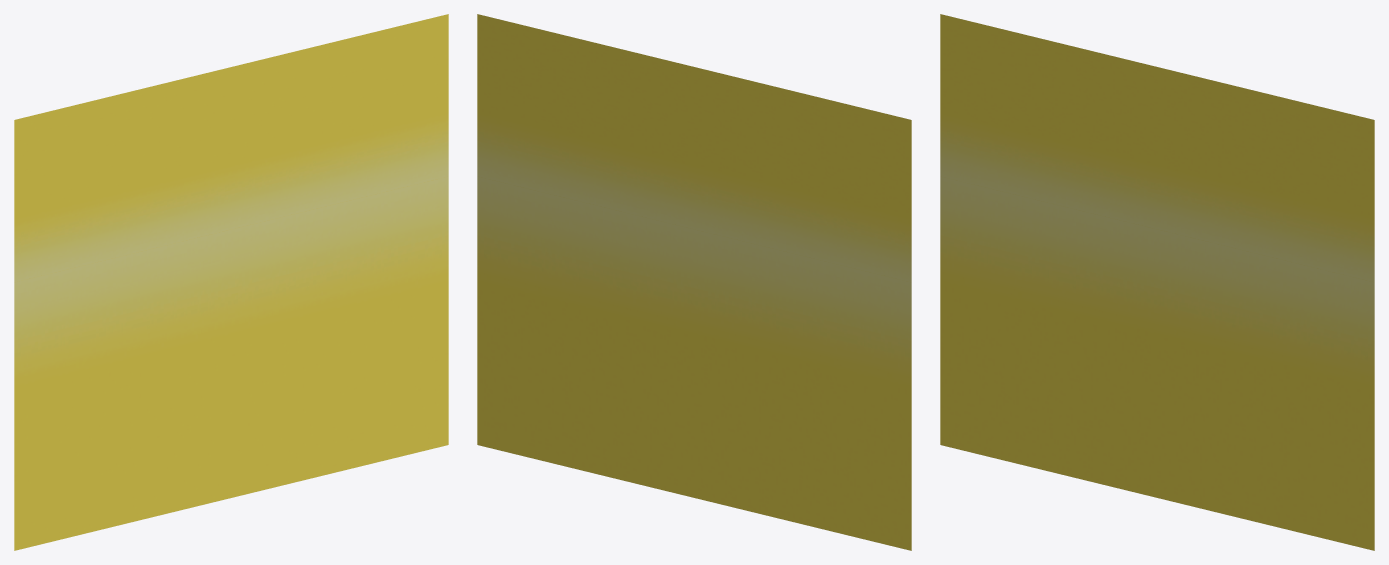
File: flamesHolder.fbx
The picture shows the model from 3 angles, left to right: view 1: azimuth 30°, elevation 25°; view 2: azimuth 150°, elevation 25°; view 3: azimuth 330°, elevation 25°; orthographic projection.
Visible parts, largest first — view 1: flamesDown, flames; view 2: flamesDown, flames; view 3: flamesDown, flames.
Boxes of the visible parts, x1,y1,x2,y2 form: flamesDown: (14, 176, 448, 550); flames: (14, 14, 448, 282); flamesDown: (477, 176, 911, 550); flames: (477, 14, 911, 282); flamesDown: (940, 176, 1374, 550); flames: (940, 14, 1374, 282).
Bounding box in the file's own units: 11 × 10.43 × 0.
